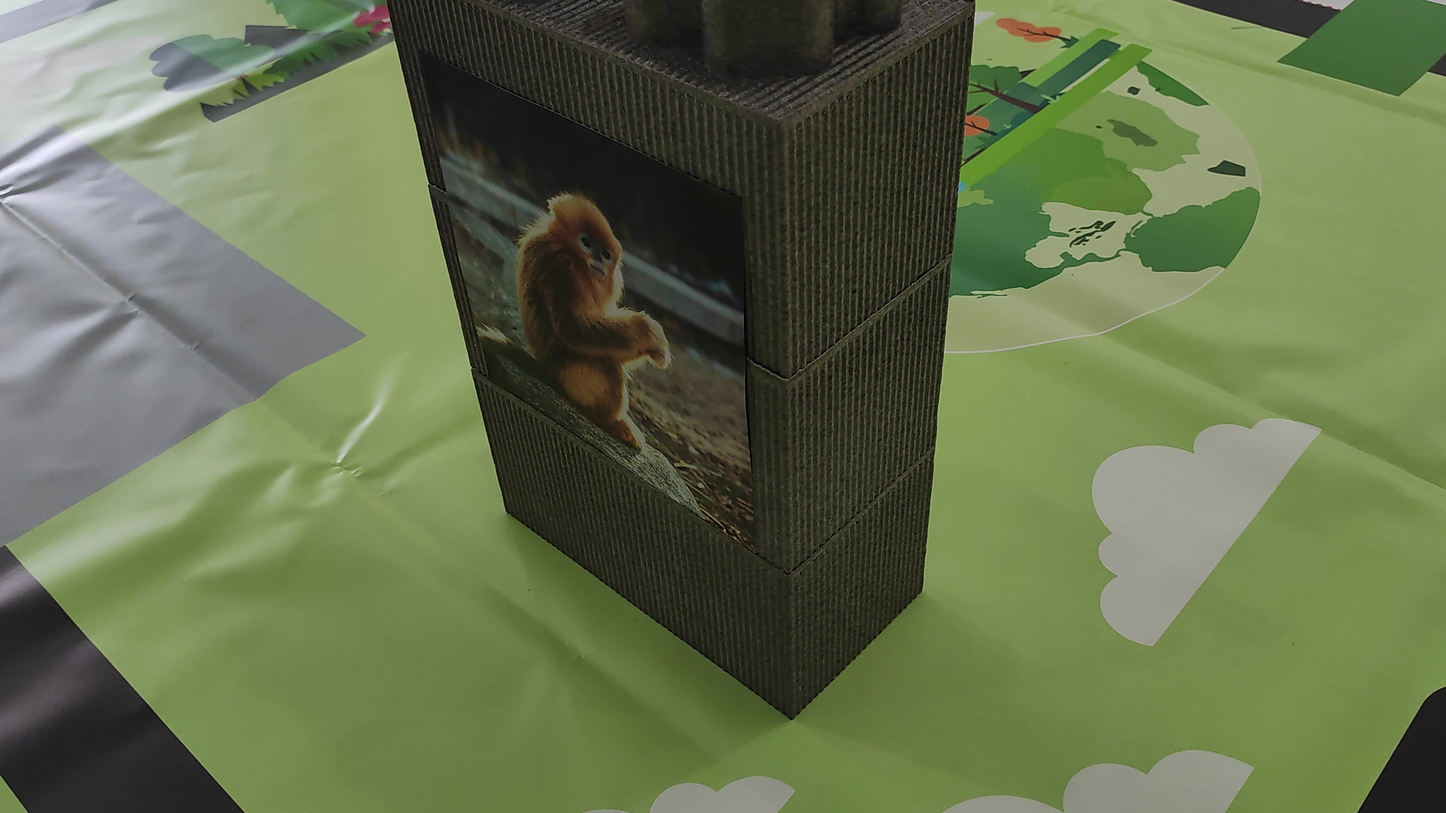monkey: (465, 157, 702, 467)
